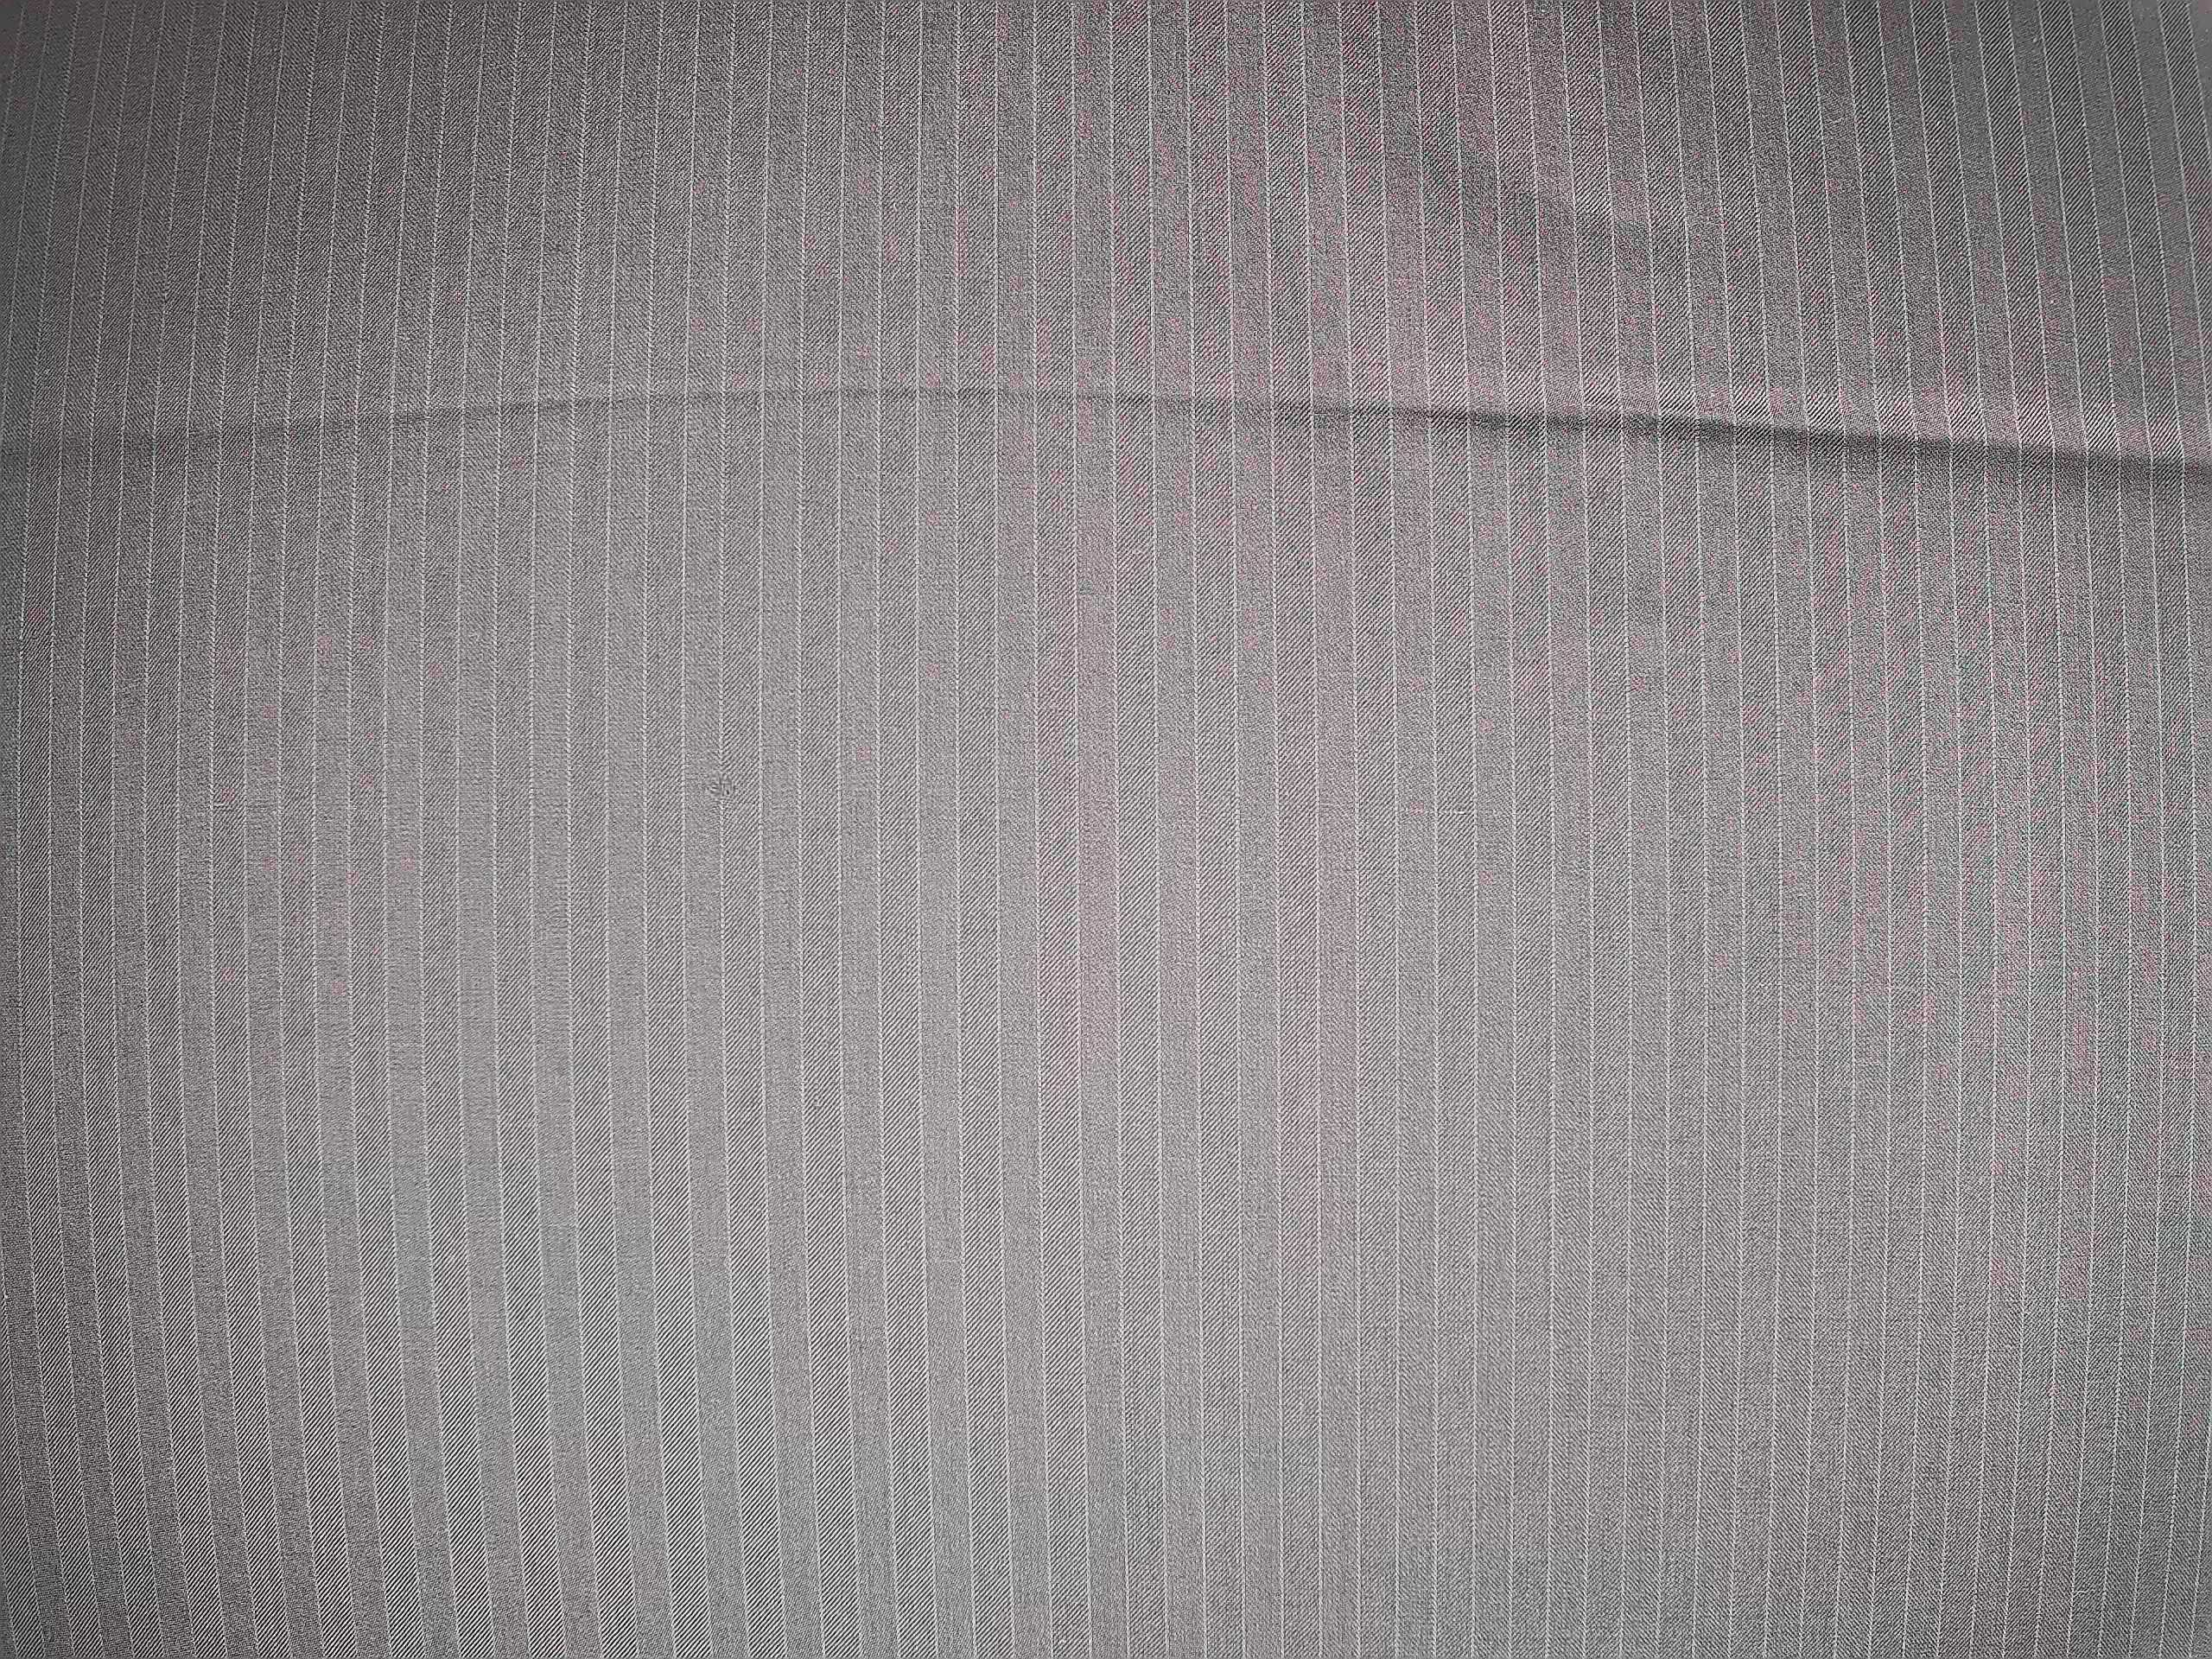brushed-hole: (693, 762, 754, 816)
